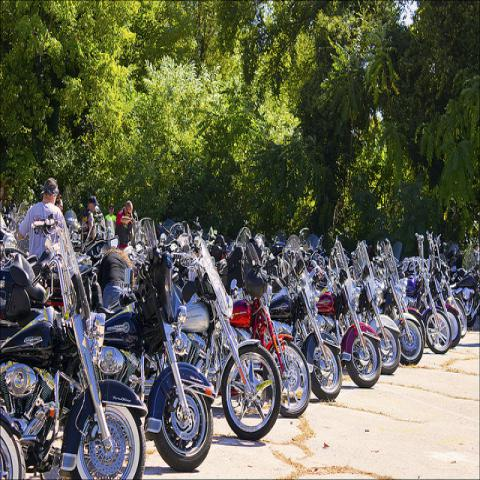motorcycle: (0, 212, 148, 474), (95, 216, 217, 472), (175, 237, 287, 441), (265, 234, 343, 402), (235, 262, 312, 416), (308, 233, 382, 388), (398, 231, 463, 345), (352, 240, 401, 374), (374, 239, 424, 366), (405, 266, 452, 356), (434, 234, 468, 338), (448, 242, 480, 330)
